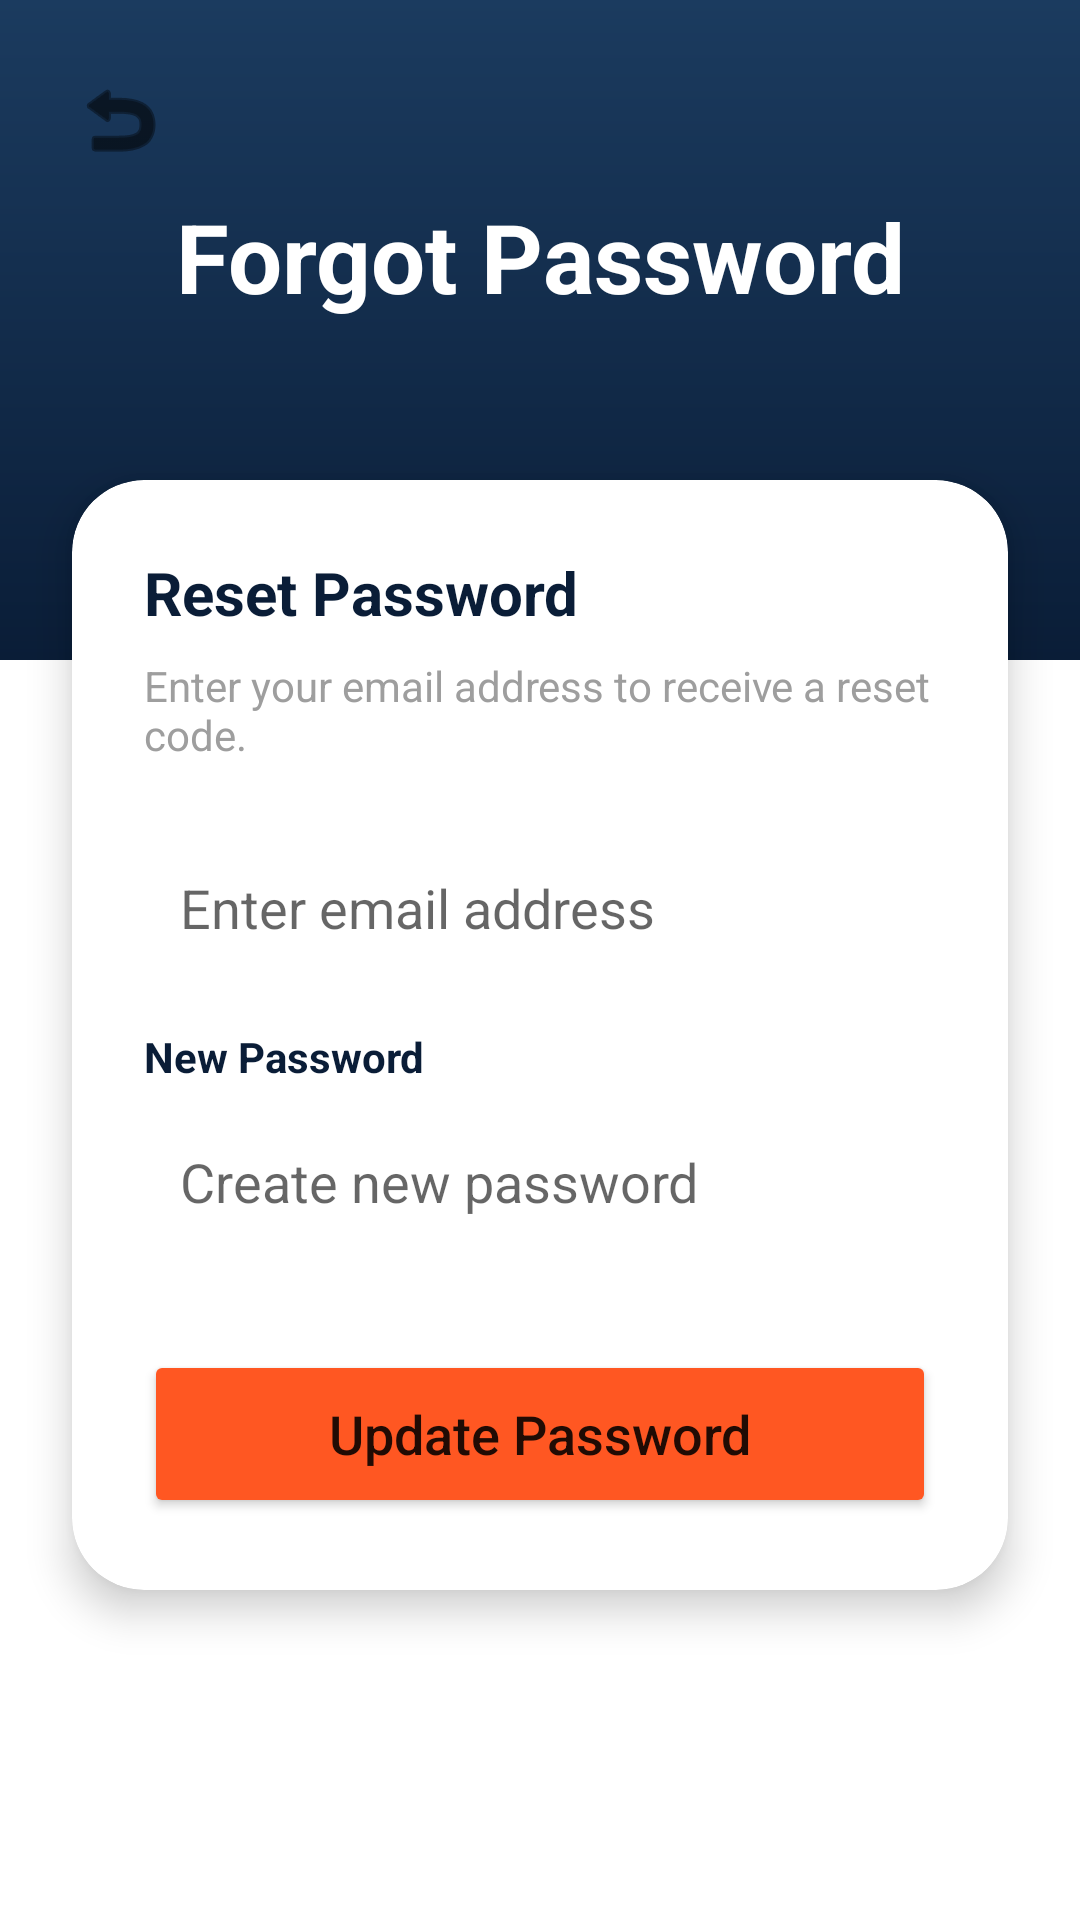

Icon click points for this 1080w x 1920h phone screenshot, format point (x, y):
revert: point (121, 120)
